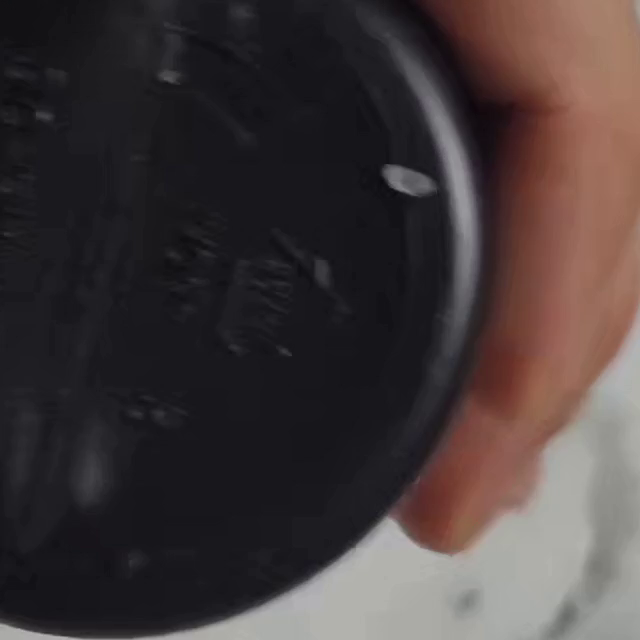Plastic: (210, 230, 345, 365)
